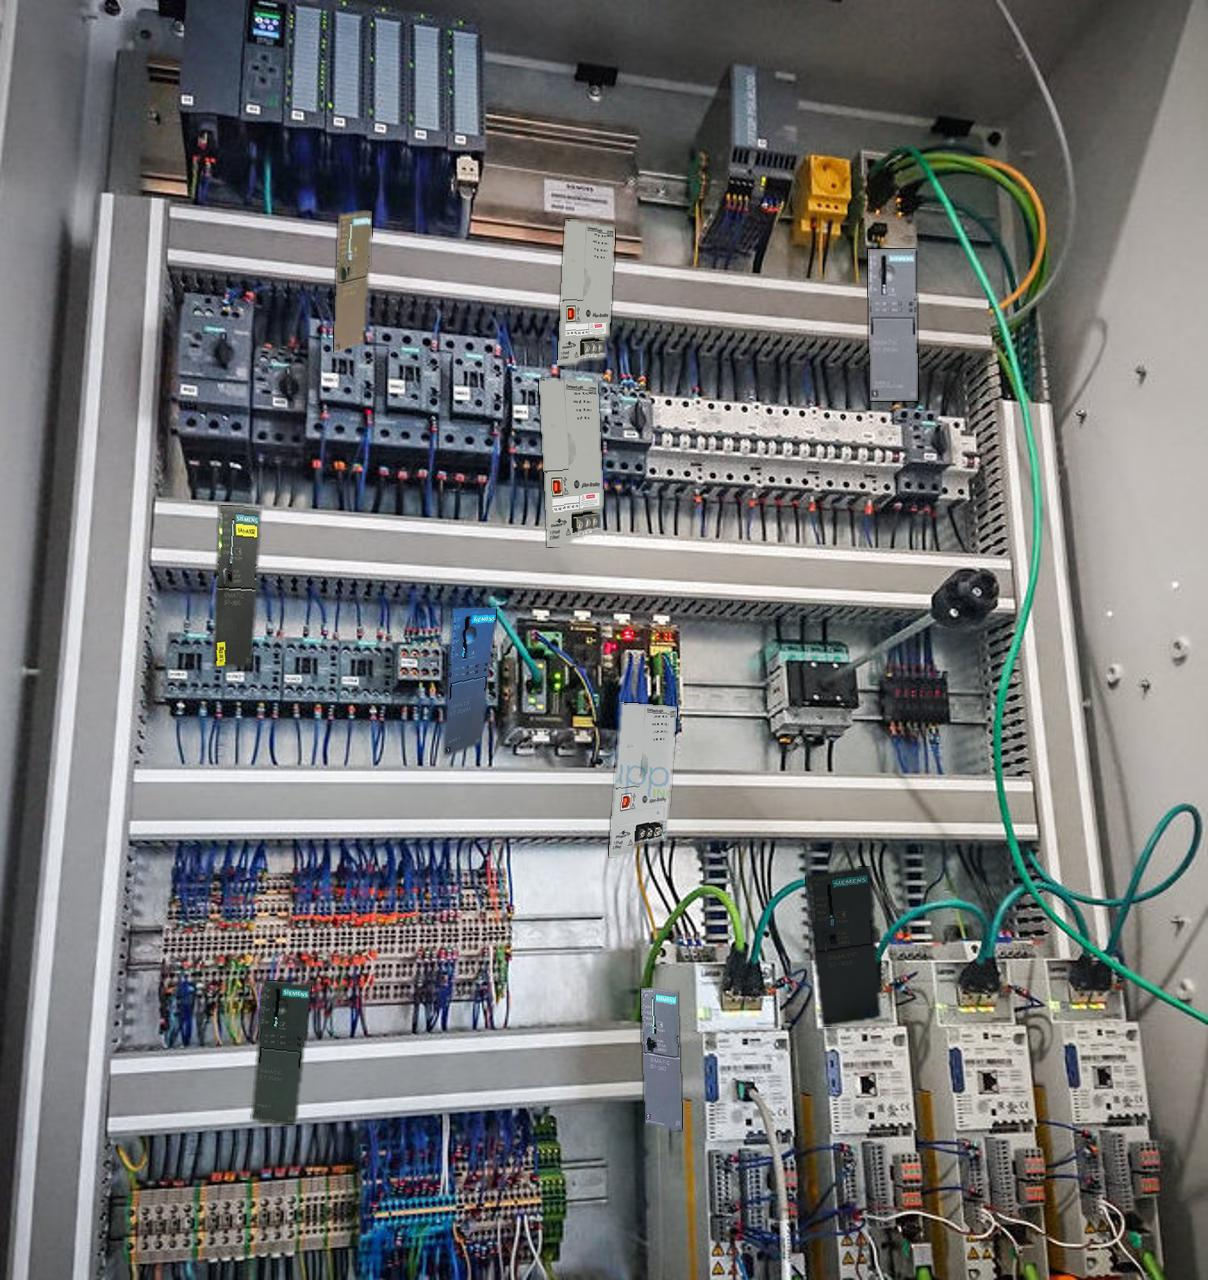AllenBradley: (539, 378, 603, 546), (609, 702, 676, 856), (557, 219, 614, 365)
Siemens: (806, 867, 879, 1024), (213, 505, 260, 666), (641, 988, 681, 1129), (334, 211, 371, 352)
